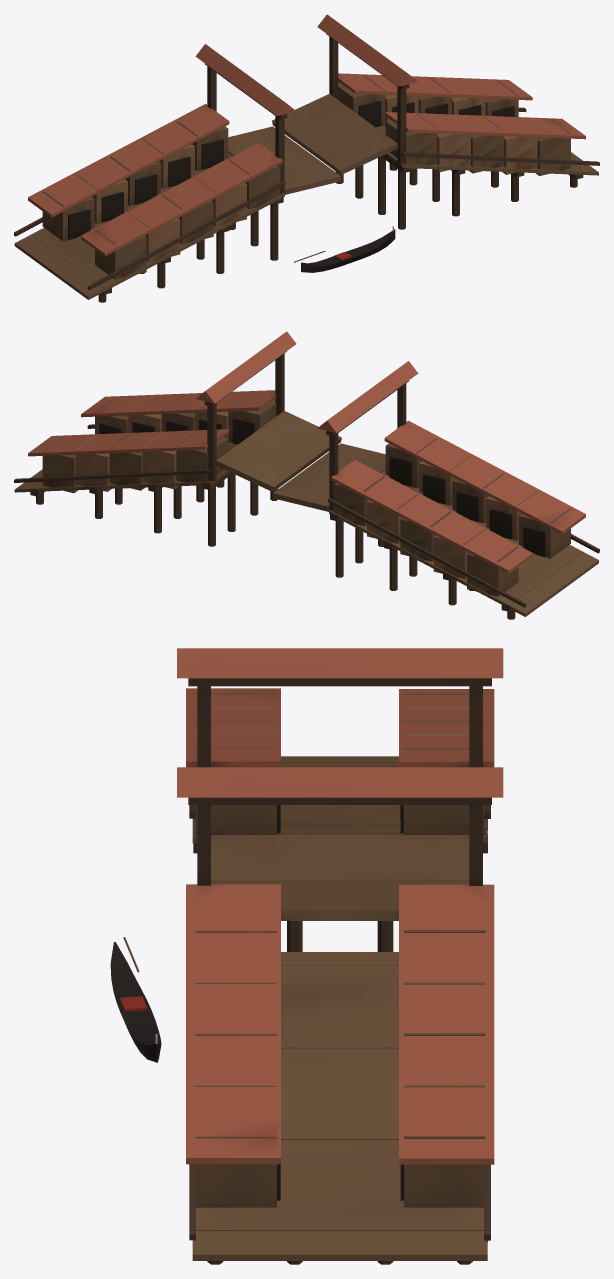
Rendered from rialto-bridge-wood.glb.
3 views of the same model, one above another, from view 1: azimuth 30°, elevation 25°; view 2: azimuth 150°, elevation 25°; view 3: azimuth 270°, elevation 25° (orthographic). The views are drawn at different scales.
Parts seen in each view (by area): view 1: p1_shops, p0_piles, p2_boats; view 2: p1_shops, p0_piles; view 3: p1_shops, p0_piles, p2_boats.
Part boxes in pixels (box(x1,y1,x2,y2)): p1_shops: box(14, 14, 599, 290); p0_piles: box(14, 125, 598, 302); p2_boats: box(294, 226, 395, 272); p1_shops: box(14, 331, 599, 607); p0_piles: box(14, 442, 598, 619); p1_shops: box(177, 648, 503, 1240); p0_piles: box(192, 756, 487, 1264); p2_boats: box(110, 937, 161, 1062).
Size of the model in its own units: 52 by 15.8 by 17.32.
